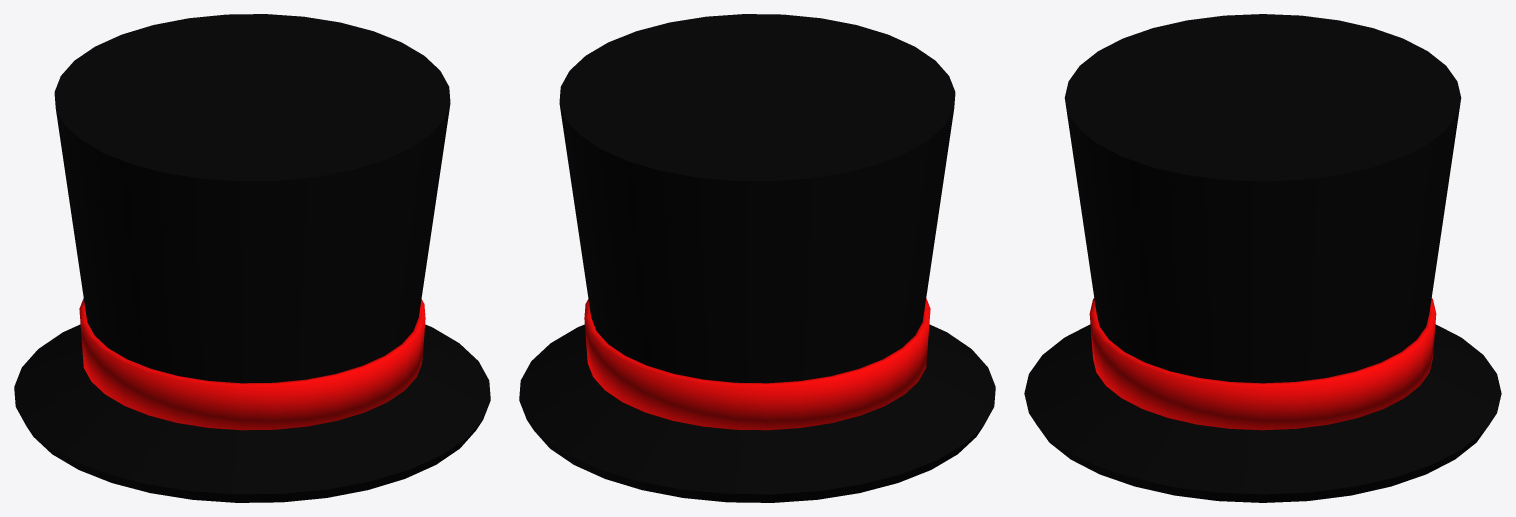
File: hat_top_hat.glb
3 renders of one model, left to right at view 1: azimuth 30°, elevation 25°; view 2: azimuth 150°, elevation 25°; view 3: azimuth 270°, elevation 25°, orthographic.
Visible parts, largest first — view 1: Circle.001_Material.002_0; view 2: Circle.001_Material.002_0; view 3: Circle.001_Material.002_0.
Part boxes in pixels (box(x1,y1,x2,y2)): Circle.001_Material.002_0: box(14, 14, 490, 502); Circle.001_Material.002_0: box(519, 14, 995, 502); Circle.001_Material.002_0: box(1024, 14, 1501, 502).
Bounding box in the file's own units: 1.95 × 1.38 × 1.95.
